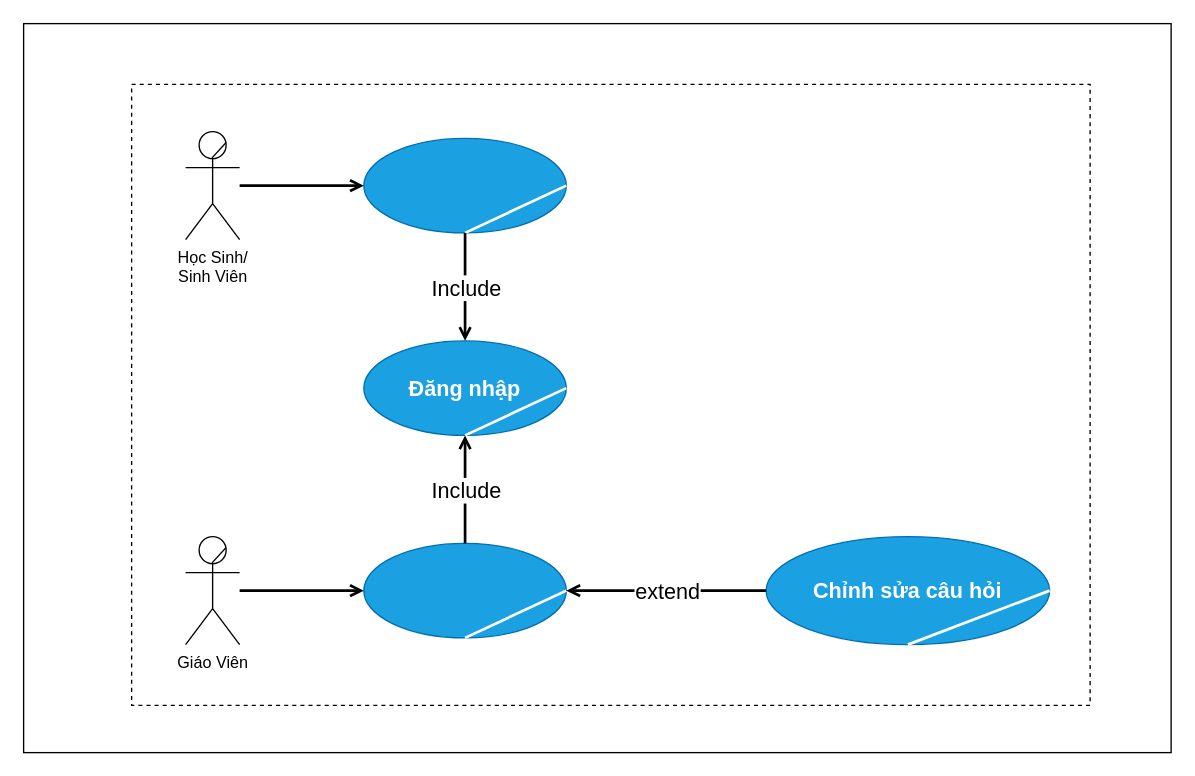
This 1195x776 diagram has some shape labels left out. Here are the shapes that lost their labels. From the top down, the centre of each, then its label:
At point 464,185: "Thi trắc nghiệm".
At point 464,590: "Soạn đề thi".
